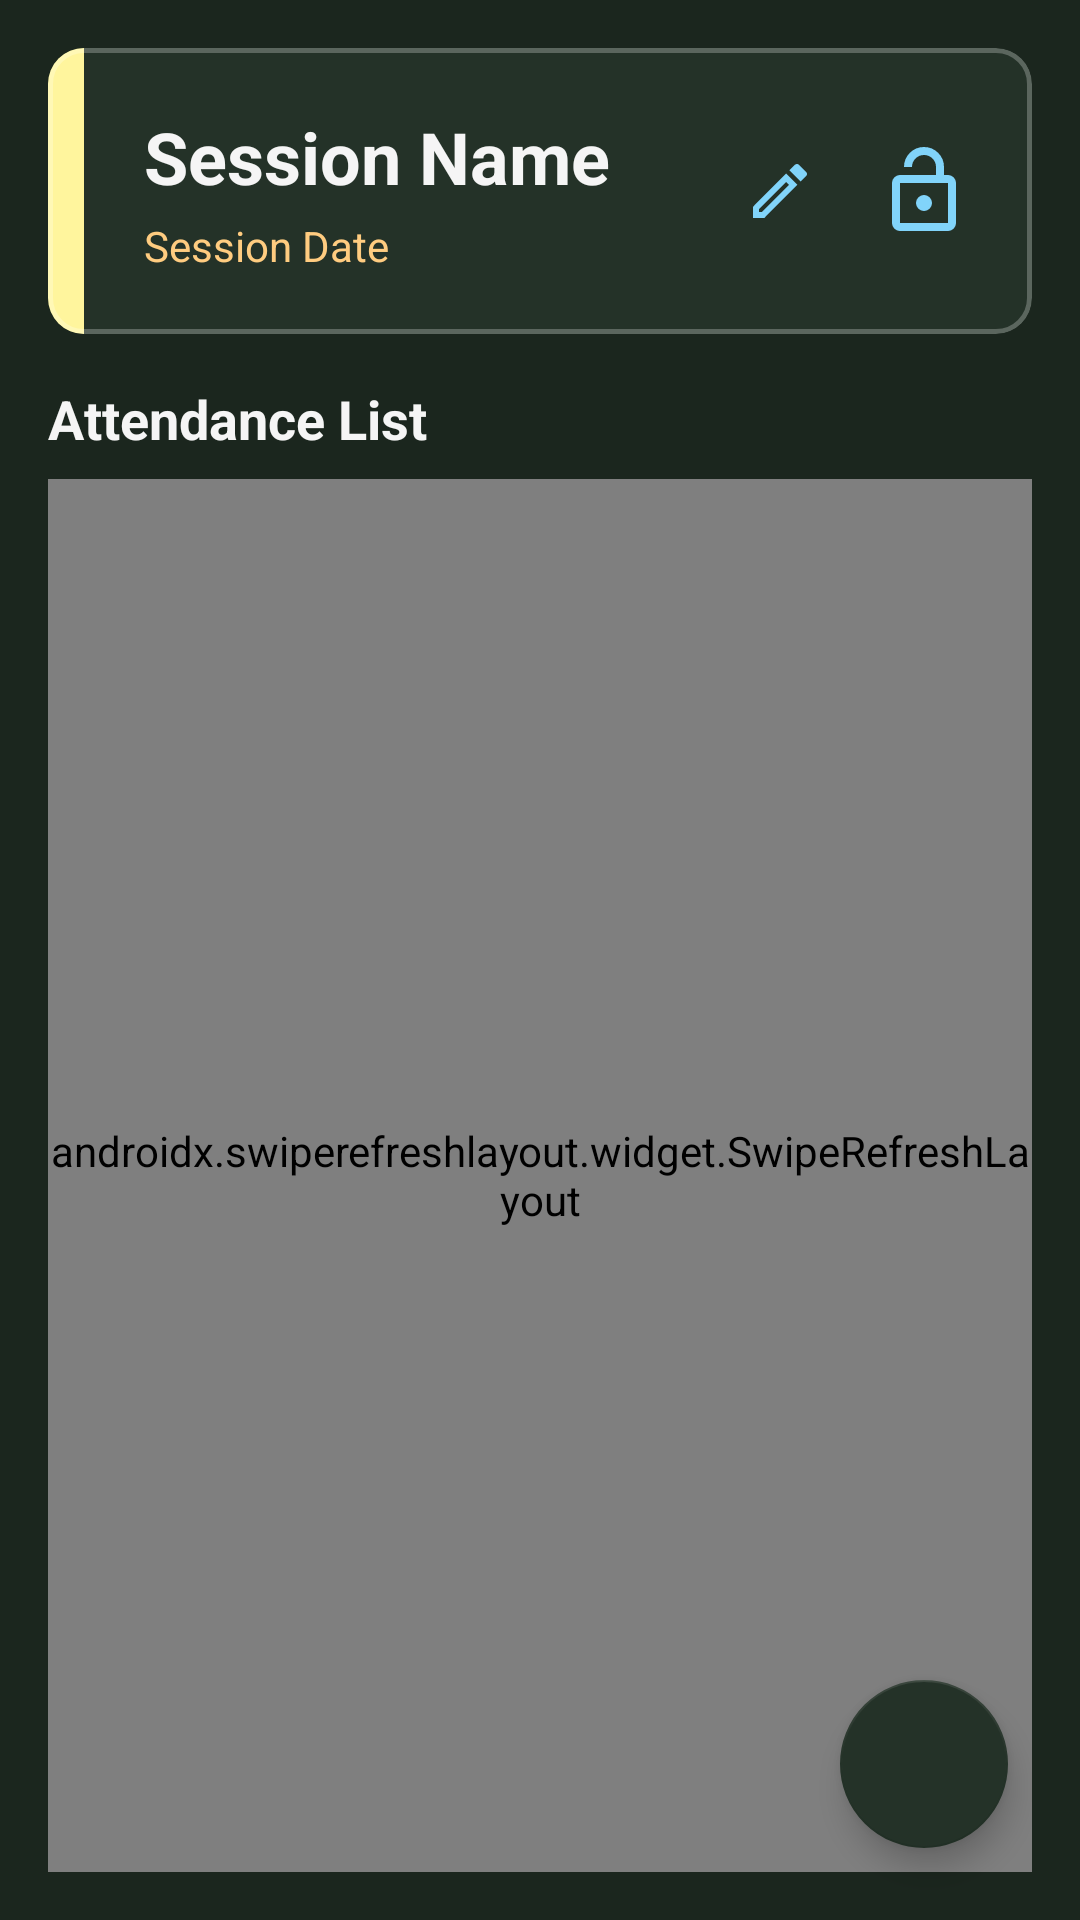

Icon click points for this 1080 × 1920 phone screenshot, format point (x, y):
edit: point (780, 191)
status unlock: point (924, 189)
